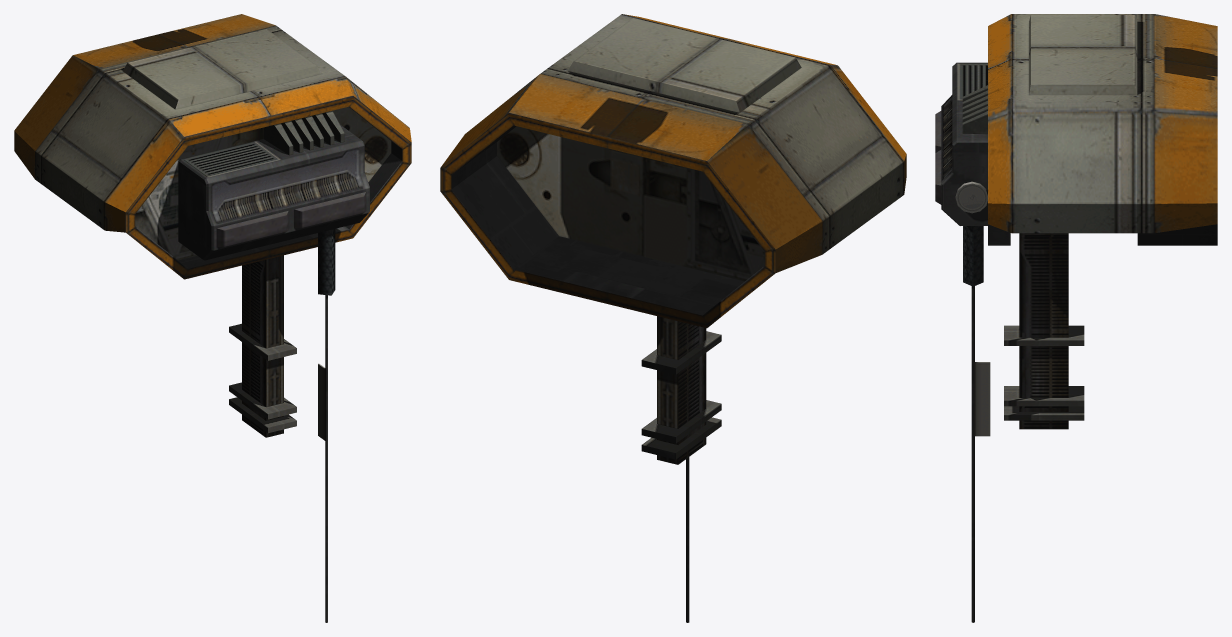
Rendered from ML1_Junction_cap.FBX.
3 renders of one model, left to right at view 1: azimuth 30°, elevation 25°; view 2: azimuth 150°, elevation 25°; view 3: azimuth 270°, elevation 25°, orthographic. The views are drawn at different scales.
Parts seen in each view (by area): view 1: ML1_Junction_cap; view 2: ML1_Junction_cap; view 3: ML1_Junction_cap.
Boxes of the visible parts, left/top/right/bottom form: ML1_Junction_cap: left=14, top=14, right=411, bottom=622; ML1_Junction_cap: left=440, top=14, right=906, bottom=622; ML1_Junction_cap: left=935, top=14, right=1217, bottom=622.
Bounding box in the file's own units: 9.91 × 16.51 × 7.72.
Materials: 1 (1 with a texture image).
